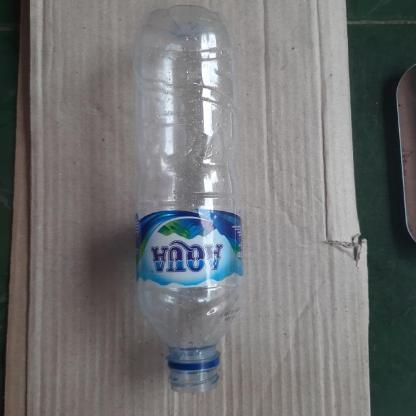Plastic Bottle: (107, 0, 281, 404)
